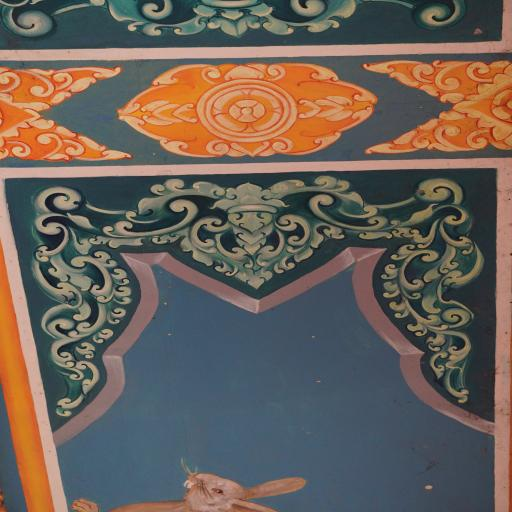hoa: (115, 60, 381, 160), (368, 57, 512, 158), (0, 64, 130, 169)
la: (99, 168, 411, 290), (12, 182, 140, 424), (370, 175, 494, 408), (107, 0, 356, 41), (1, 0, 102, 44), (358, 0, 487, 30)
